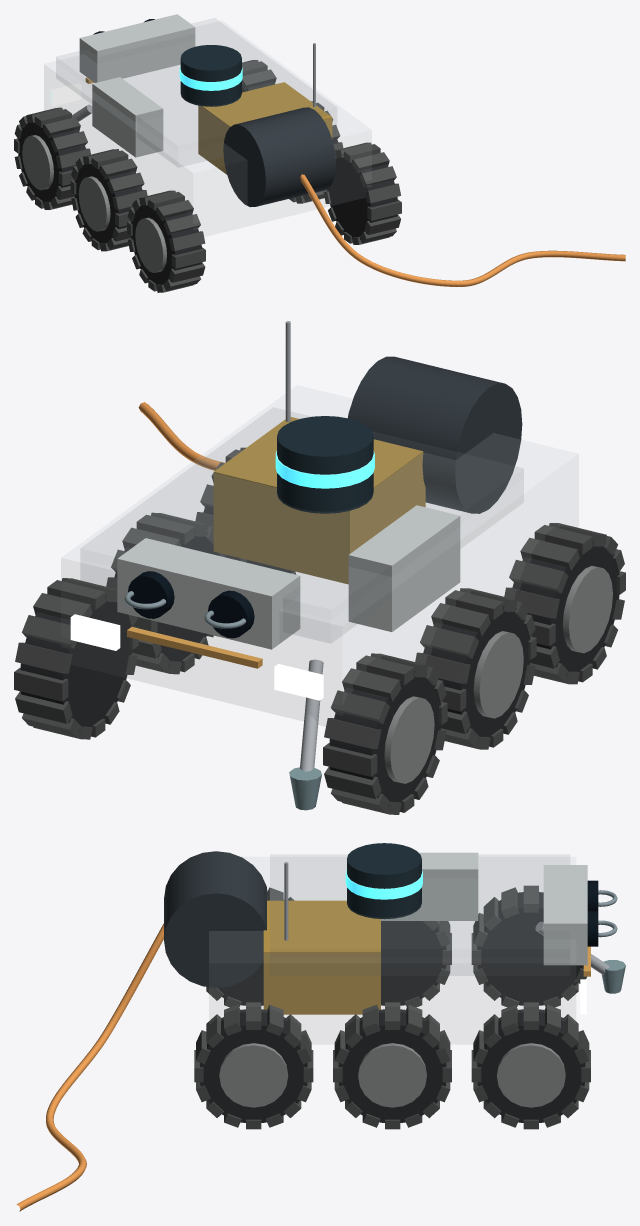
File: nx2-inside.glb
3 renders of one model, top to bottom at view 1: azimuth 30°, elevation 25°; view 2: azimuth 150°, elevation 25°; view 3: azimuth 270°, elevation 25°, orthographic. The views are drawn at different scales.
Parts seen in each view (by area): view 1: RoundedBox (×5), wheels, tether, battery, lidar; view 2: RoundedBox (×6), wheels, tether, battery, lidar, cameras, sensors, object 18; view 3: RoundedBox (×4), wheels, tether, battery, lidar, sensors, cameras.
Boxes of the visible parts, x1=… form: RoundedBox (×5): x1=44, y1=14, x2=371, y2=236; wheels: x1=14, y1=60, x2=401, y2=292; tether: x1=223, y1=107, x2=625, y2=286; battery: x1=198, y1=82, x2=332, y2=174; lidar: x1=179, y1=45, x2=242, y2=106; RoundedBox (×6): x1=61, y1=386, x2=578, y2=726; wheels: x1=14, y1=447, x2=625, y2=814; tether: x1=138, y1=356, x2=522, y2=513; battery: x1=213, y1=417, x2=425, y2=584; lidar: x1=275, y1=416, x2=374, y2=513; cameras: x1=128, y1=571, x2=254, y2=638; sensors: x1=289, y1=659, x2=323, y2=810; object 18: x1=127, y1=627, x2=262, y2=668; RoundedBox (×4): x1=209, y1=852, x2=587, y2=1043; wheels: x1=194, y1=885, x2=590, y2=1129; tether: x1=16, y1=851, x2=268, y2=1211; battery: x1=263, y1=900, x2=380, y2=1014; lidar: x1=345, y1=843, x2=422, y2=919; sensors: x1=535, y1=921, x2=625, y2=993; cameras: x1=587, y1=880, x2=598, y2=946.
Size of the model in its own units: 3.31 by 1.6 by 3.75.
